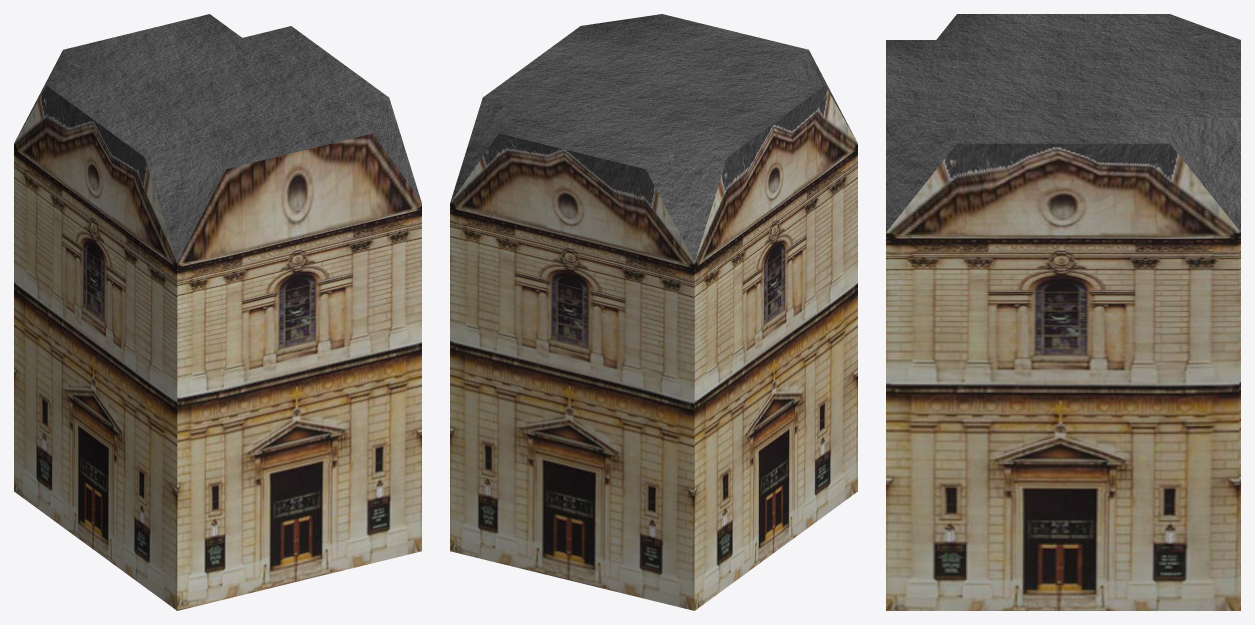
File: GunTower.FBX
3 views of the same model, side by side, from view 1: azimuth 30°, elevation 25°; view 2: azimuth 150°, elevation 25°; view 3: azimuth 270°, elevation 25° (orthographic). The views are drawn at different scales.
Visible parts, largest first — view 1: Box001; view 2: Box001; view 3: Box001.
Part boxes in pixels (left/top/right/bottom): Box001: left=14, top=14, right=421, bottom=610; Box001: left=450, top=14, right=857, bottom=610; Box001: left=886, top=14, right=1240, bottom=610.
Bounding box in the file's own units: 46.65 × 53.9 × 78.34.
Materials: 1 (1 with a texture image).
